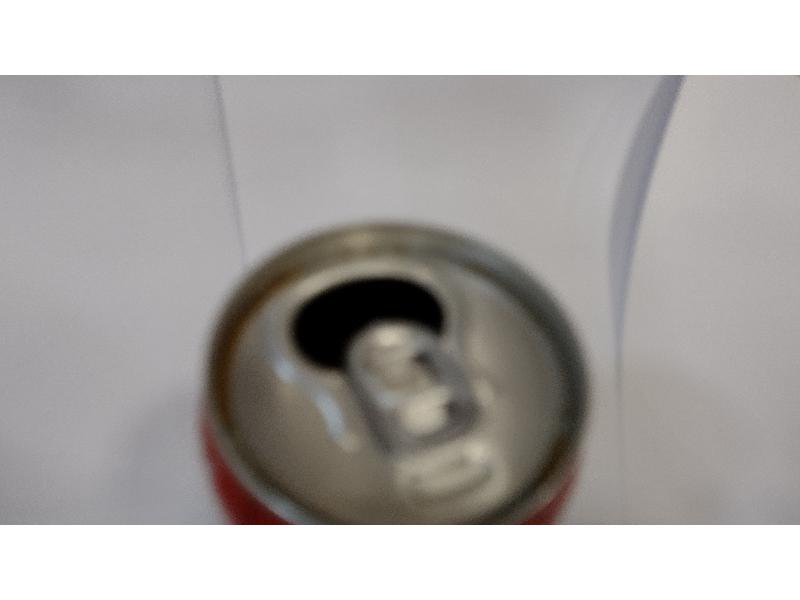can: (191, 209, 595, 520)
